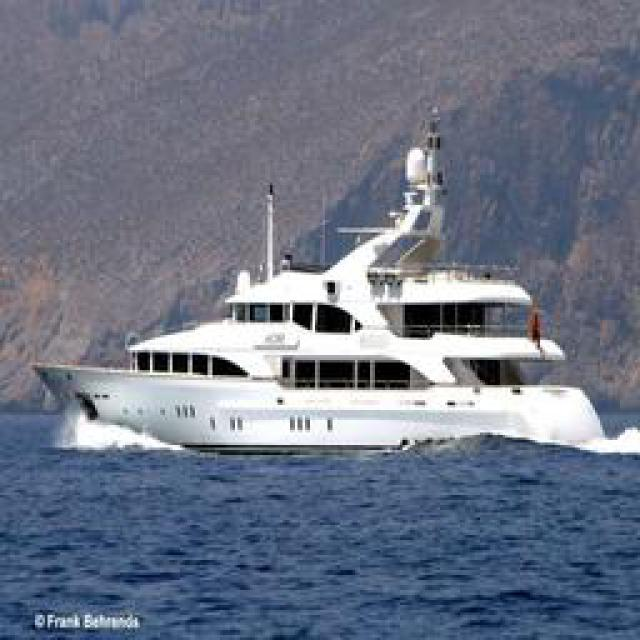Ship: (46, 95, 599, 448)
